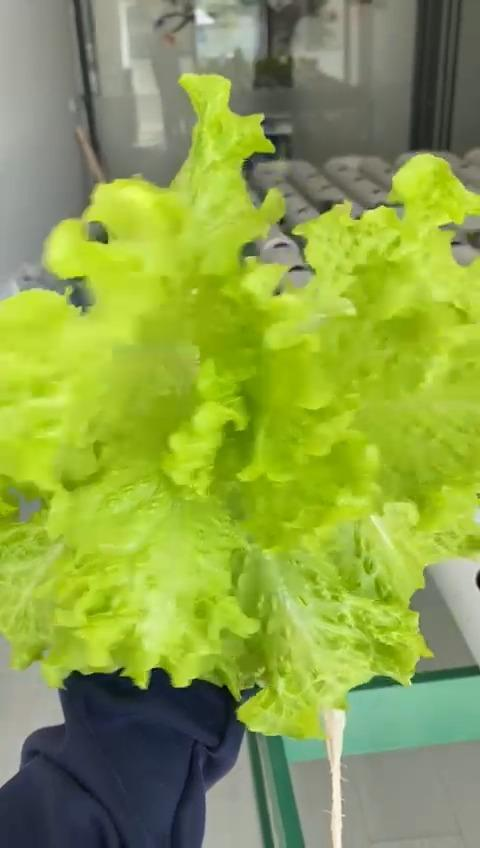Healthy: (0, 69, 480, 746)
